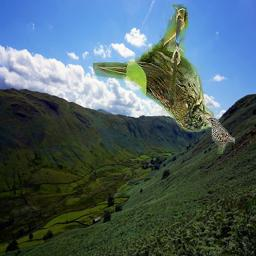Sparrow: (94, 4, 215, 132), (207, 116, 236, 155)
